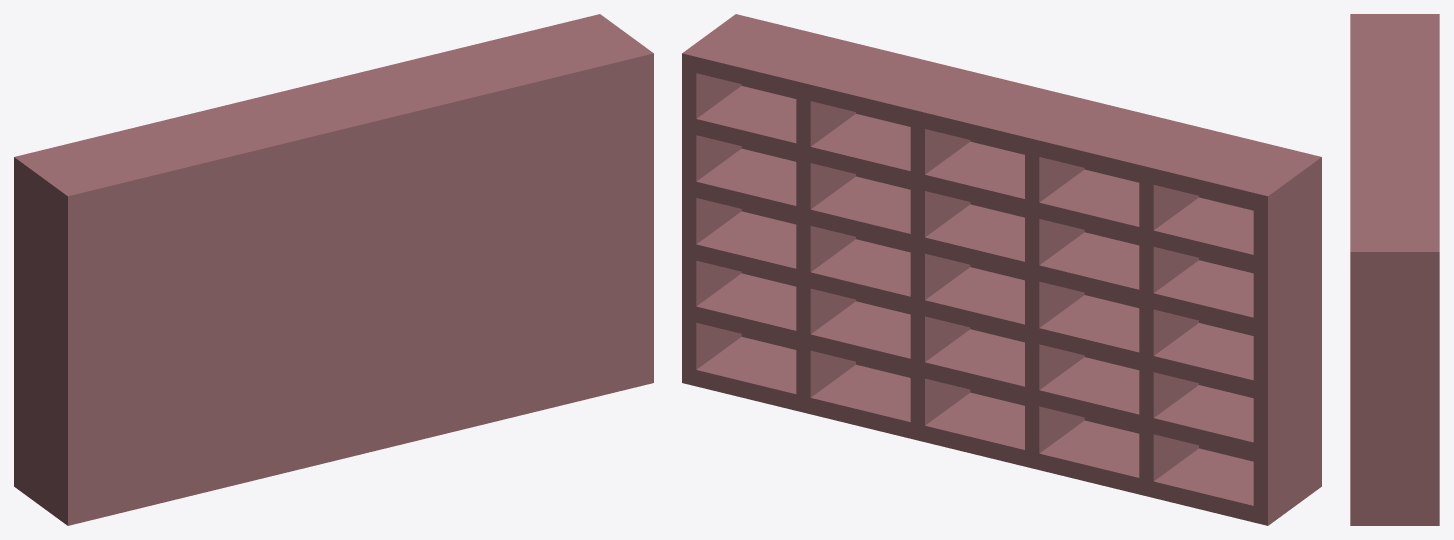
Rendered from kitaplıklvl3.fbx.
3 views of the same model, side by side, from view 1: azimuth 30°, elevation 25°; view 2: azimuth 150°, elevation 25°; view 3: azimuth 270°, elevation 25° (orthographic). The views are drawn at different scales.
Visible parts, largest first — view 1: Cube.048; view 2: Cube.048; view 3: Cube.048.
Part boxes in pixels (x1=…): Cube.048: x1=14, y1=14, x2=653, y2=525; Cube.048: x1=682, y1=14, x2=1321, y2=525; Cube.048: x1=1350, y1=14, x2=1439, y2=525.
Size of the model in its own units: 4061 by 2183 by 646.
